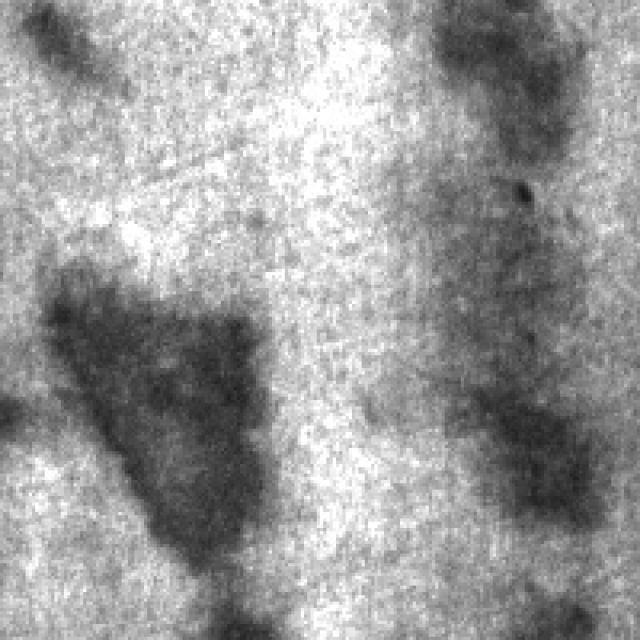patches: (39, 278, 262, 618), (442, 349, 595, 528), (416, 0, 576, 166), (22, 0, 83, 70)
